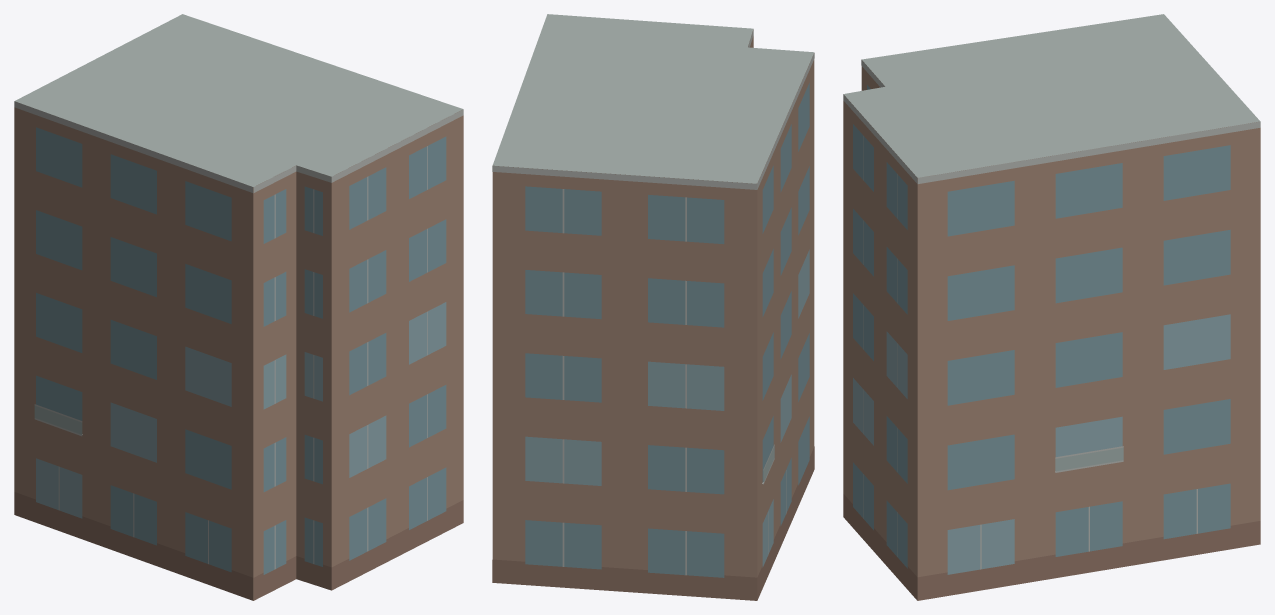
The model's file is survey-upis-32853126.glb.
The picture shows the model from 3 angles, left to right: view 1: azimuth 30°, elevation 25°; view 2: azimuth 150°, elevation 25°; view 3: azimuth 270°, elevation 25°; orthographic projection. The views are drawn at different scales.
Parts seen in each view (by area): view 1: survey-upis-32853126.tmp; view 2: survey-upis-32853126.tmp; view 3: survey-upis-32853126.tmp.
Boxes of the visible parts, left/top/right/bottom form: survey-upis-32853126.tmp: left=14, top=14, right=463, bottom=600; survey-upis-32853126.tmp: left=492, top=14, right=814, bottom=600; survey-upis-32853126.tmp: left=843, top=14, right=1260, bottom=600.
Bounding box in the file's own units: 13.64 × 16.4 × 14.67.
